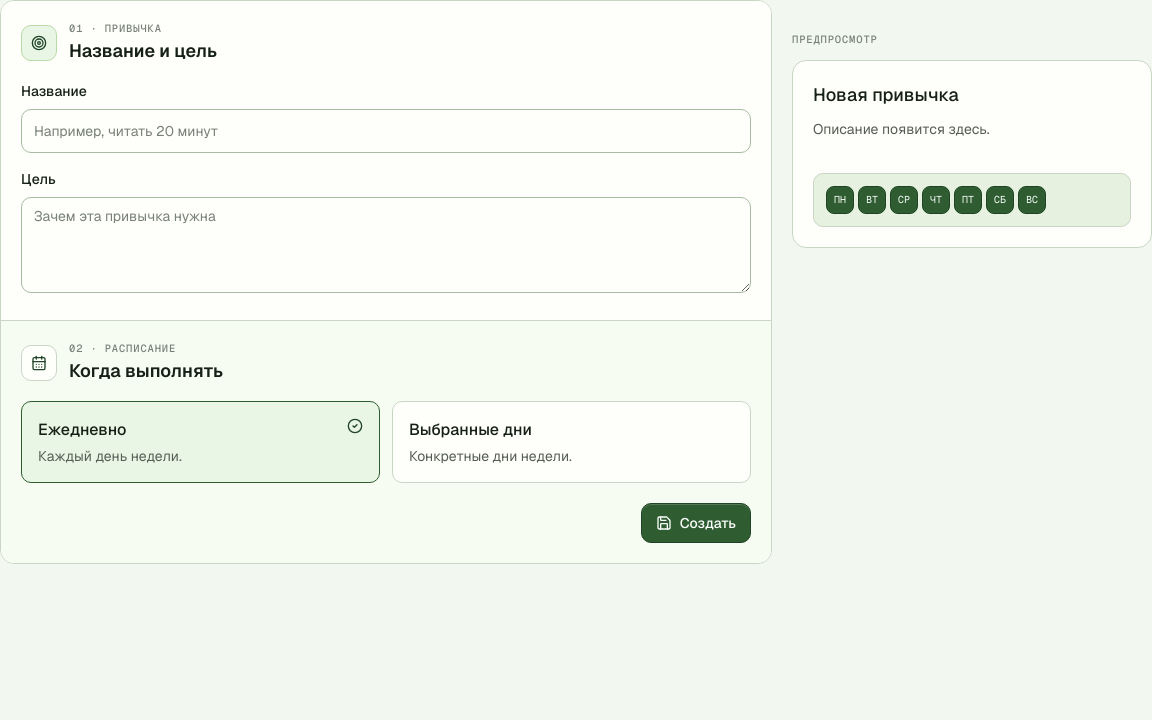
HabitForm › shows validation error for weekly_days without weekdays
Type "Тренировка" into the field labelled "Название" at (386, 131), box [21,109,751,153]
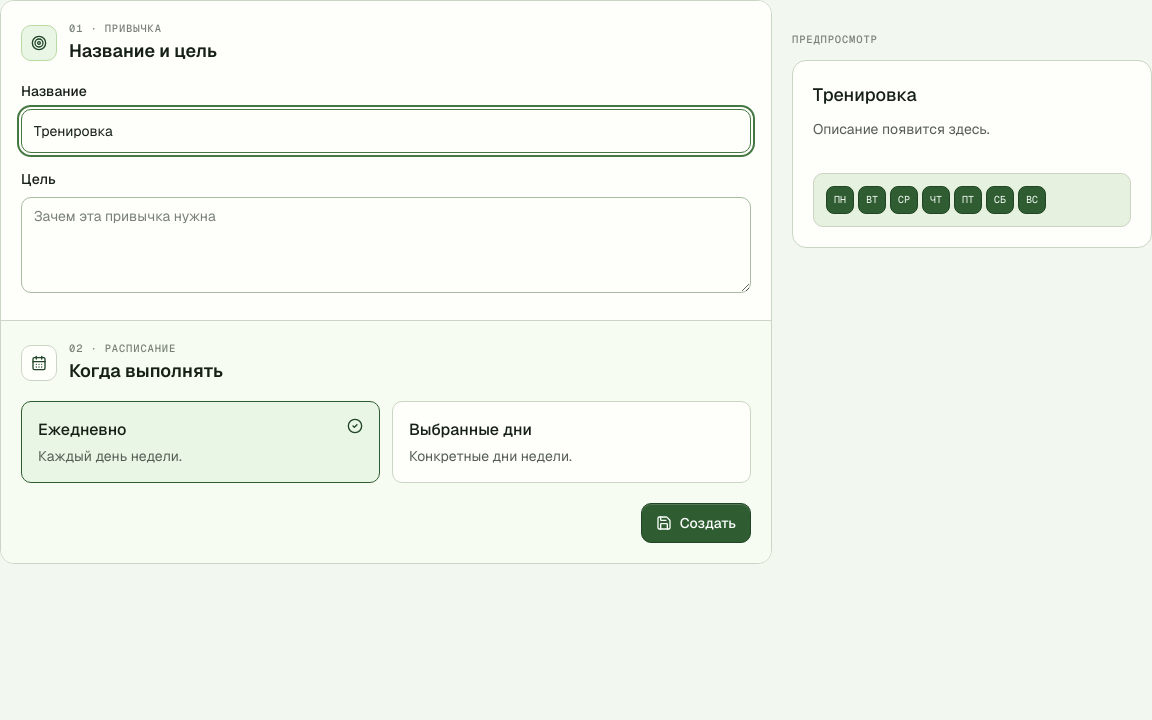
Click the text "Выбранные дни" at (470, 429), box [409,418,532,440]
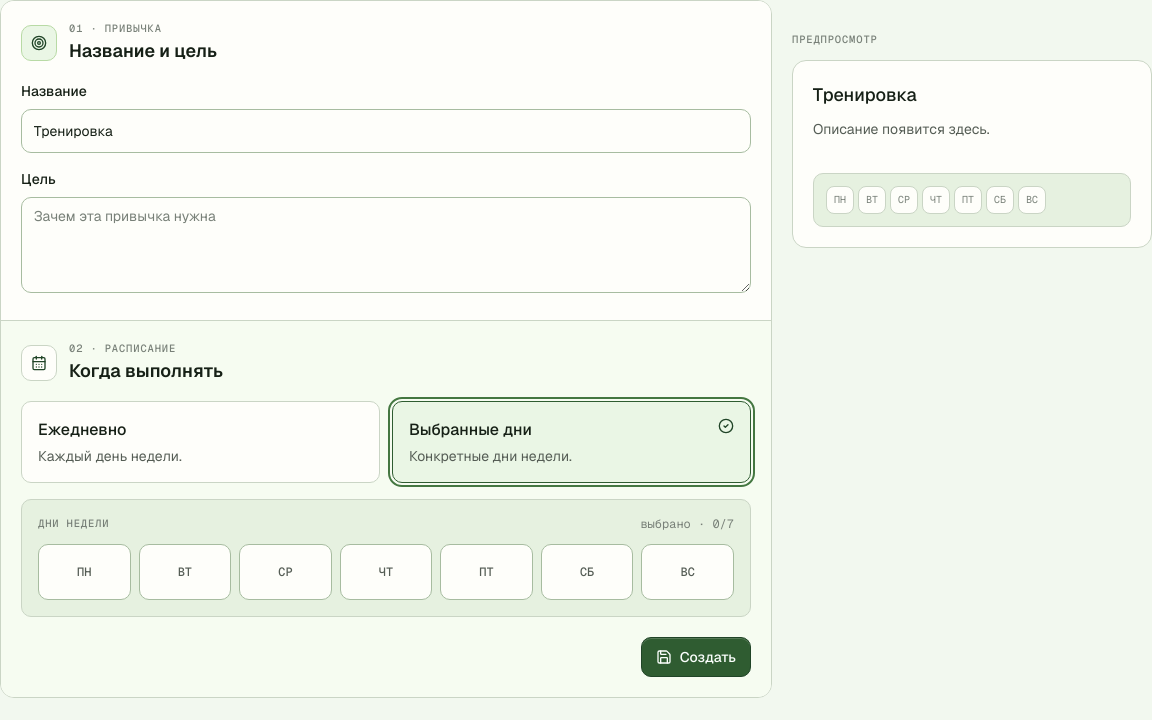
Click the button "Создать" at (696, 656), box [641,636,751,676]
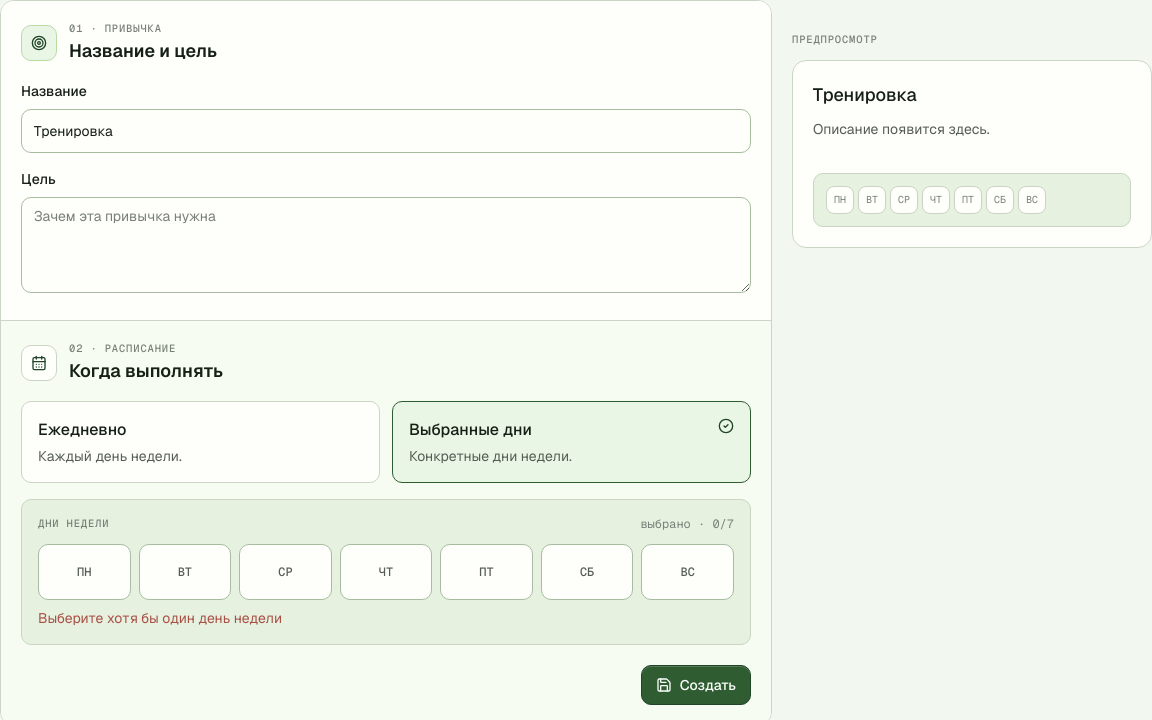
Expected: the text "Выберите хотя бы один день недели" is shown, [38,608,282,626]
